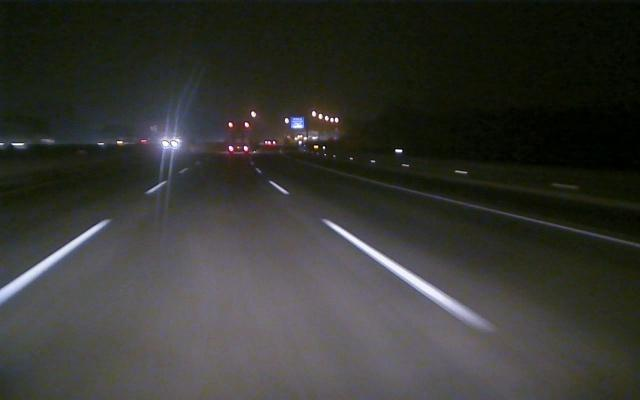lane: (271, 181, 498, 334), (362, 178, 638, 249), (1, 183, 160, 304)
